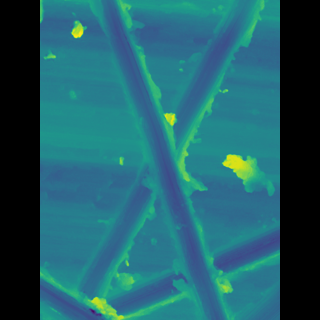Loch: (95, 0, 237, 320), (103, 0, 213, 320), (117, 220, 250, 320)
